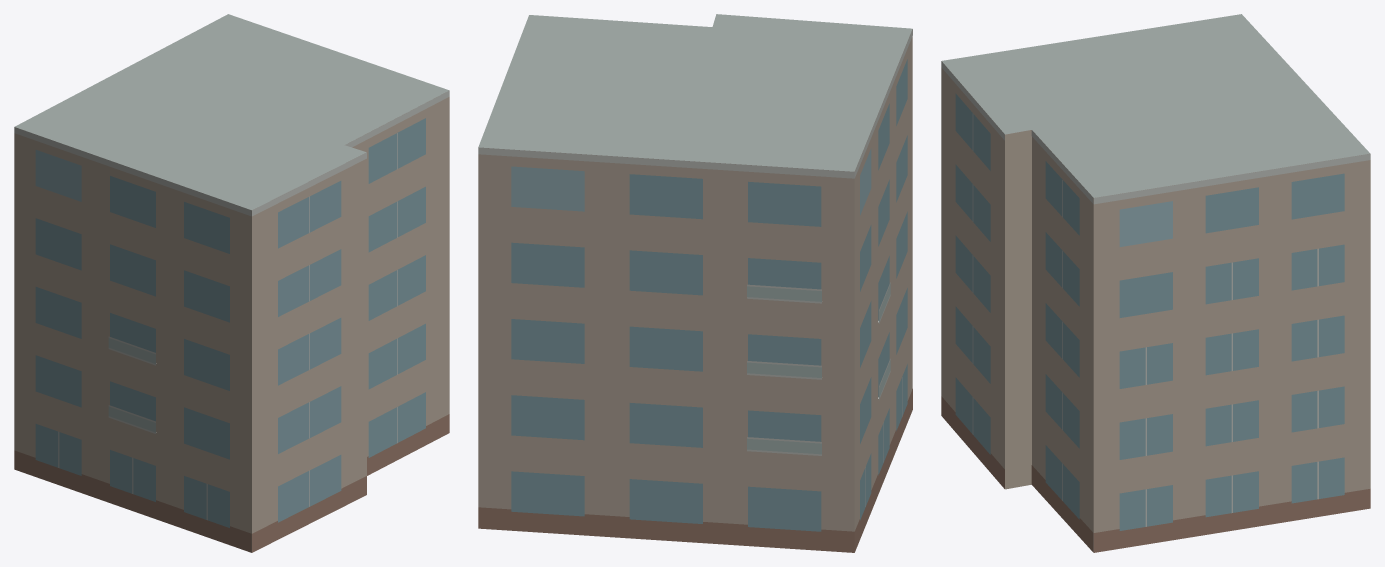
Rendered from survey-upis-32851260.glb.
3 views of the same model, side by side, from view 1: azimuth 30°, elevation 25°; view 2: azimuth 150°, elevation 25°; view 3: azimuth 270°, elevation 25° (orthographic). The views are drawn at different scales.
Visible parts, largest first — view 1: survey-upis-32851260.tmp; view 2: survey-upis-32851260.tmp; view 3: survey-upis-32851260.tmp.
Boxes of the visible parts, left/top/right/bottom form: survey-upis-32851260.tmp: left=14, top=14, right=449, bottom=552; survey-upis-32851260.tmp: left=478, top=14, right=912, bottom=552; survey-upis-32851260.tmp: left=941, top=14, right=1370, bottom=552.
Size of the model in its own units: 15.02 by 13.5 by 14.8.
